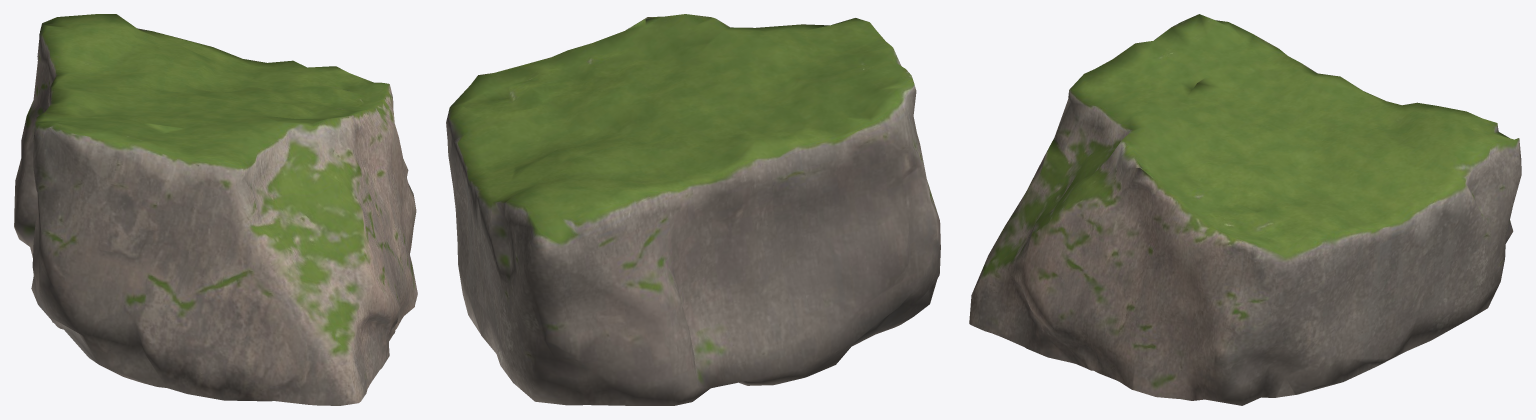
File: fels-3.glb
The picture shows the model from 3 angles, left to right: view 1: azimuth 30°, elevation 25°; view 2: azimuth 150°, elevation 25°; view 3: azimuth 270°, elevation 25°; orthographic projection. The views are drawn at different scales.
Parts seen in each view (by area): view 1: fels-3; view 2: fels-3; view 3: fels-3.
Part boxes in pixels (box(x1,y1,x2,y2)): fels-3: box(14, 14, 417, 405); fels-3: box(446, 14, 940, 405); fels-3: box(969, 14, 1521, 405).
Bounding box in the file's own units: 2.75 × 1.56 × 3.49.
1 material, 1 textured.
